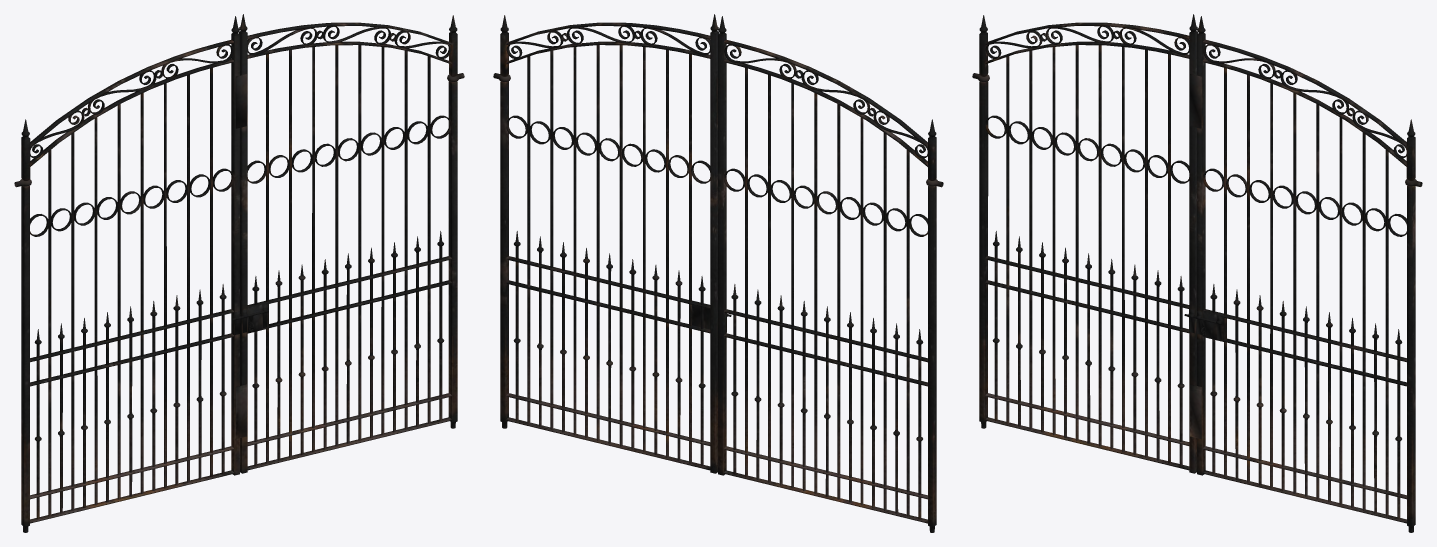
The model's file is large_iron_gate_c2158299.fbx.
3 views of the same model, side by side, from view 1: azimuth 30°, elevation 25°; view 2: azimuth 150°, elevation 25°; view 3: azimuth 330°, elevation 25° (orthographic).
Visible parts, largest first — view 1: large_iron_gate_c2158299; view 2: large_iron_gate_c2158299; view 3: large_iron_gate_c2158299.
Boxes of the visible parts, <box> form: large_iron_gate_c2158299: <box>14,14,464,532</box>; large_iron_gate_c2158299: <box>493,14,943,532</box>; large_iron_gate_c2158299: <box>972,14,1422,532</box>.
Size of the model in its own units: 2.95 by 2.93 by 0.0973.
1 material, 1 textured.
